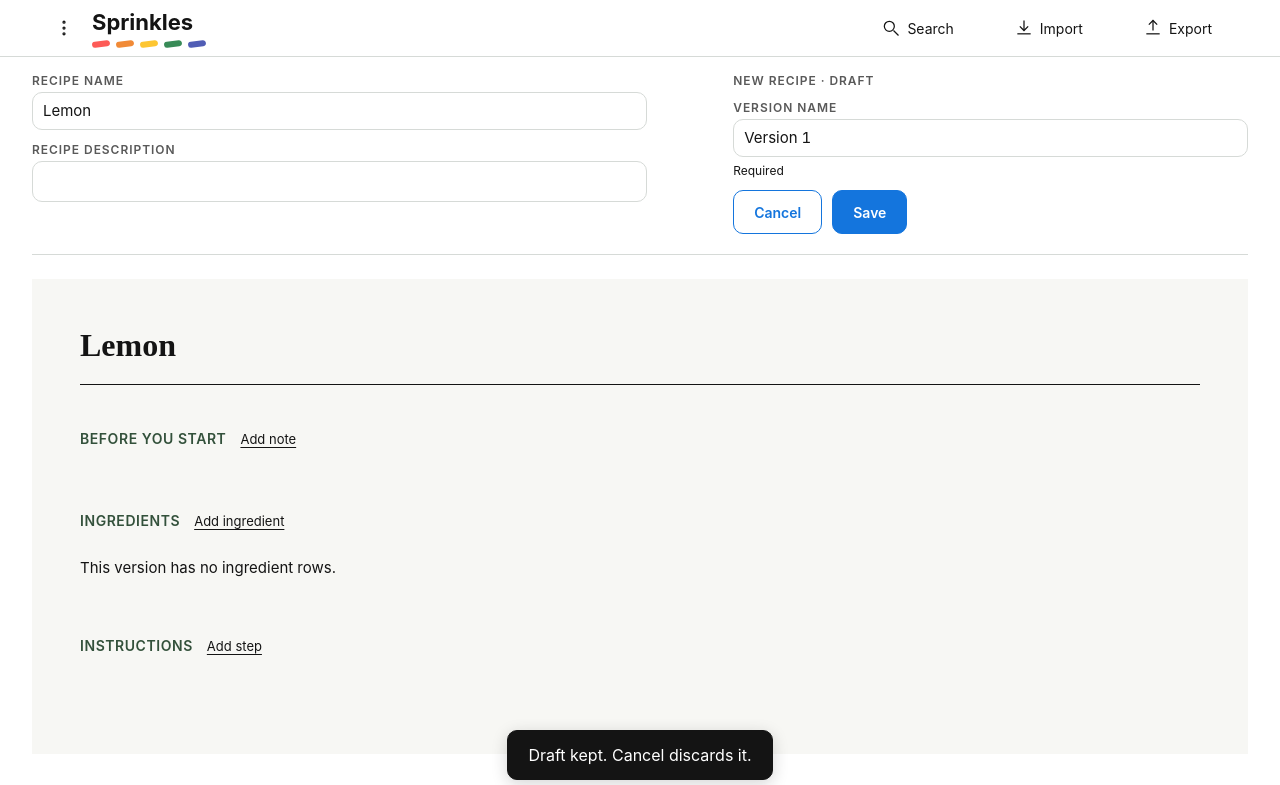
every route says it in its own notice (D-10a) › /notebook/new: the refusal reads in the editor’s notice, the only .page-status
The image size is (1280, 785).
Click the button "Import": (1048, 28) x1=994 y1=6 x2=1103 y2=50
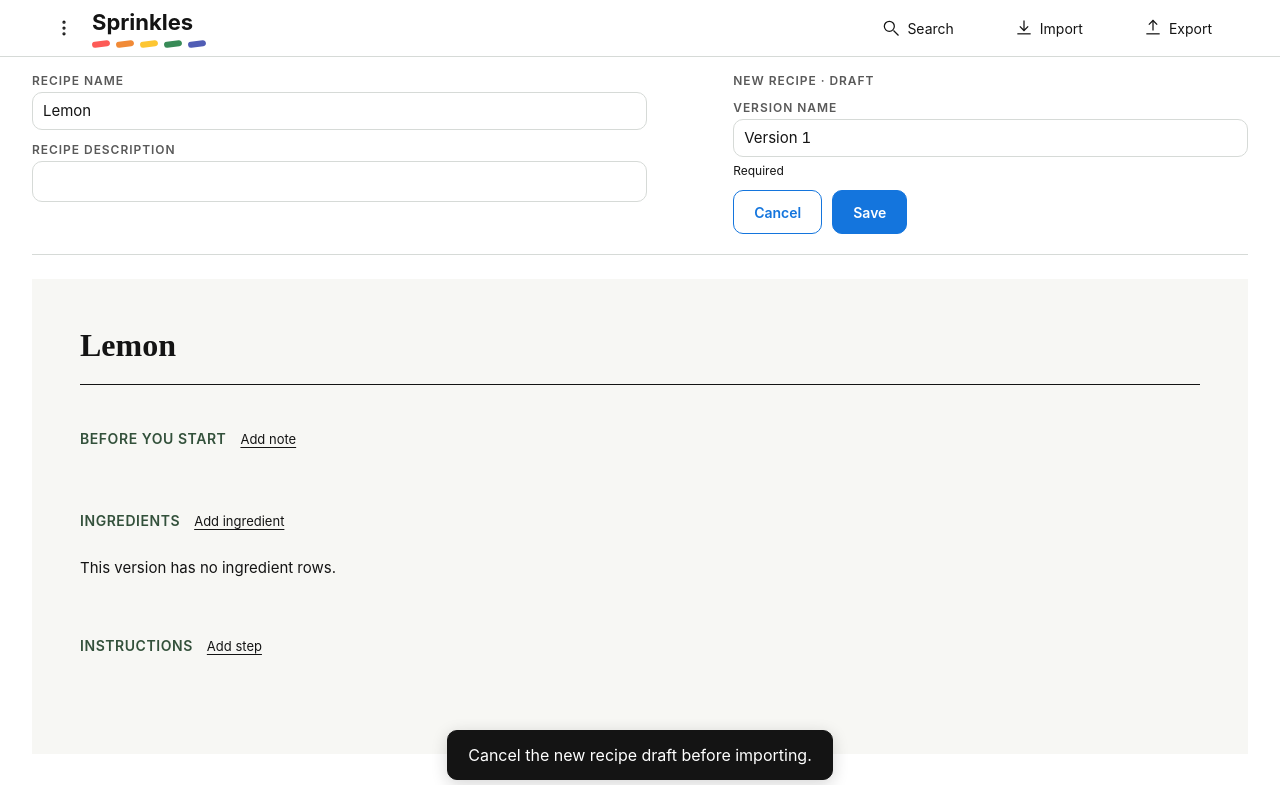
Result: the message "Cancel the new recipe draft before importing." is shown at x1=447 y1=730 x2=833 y2=780
